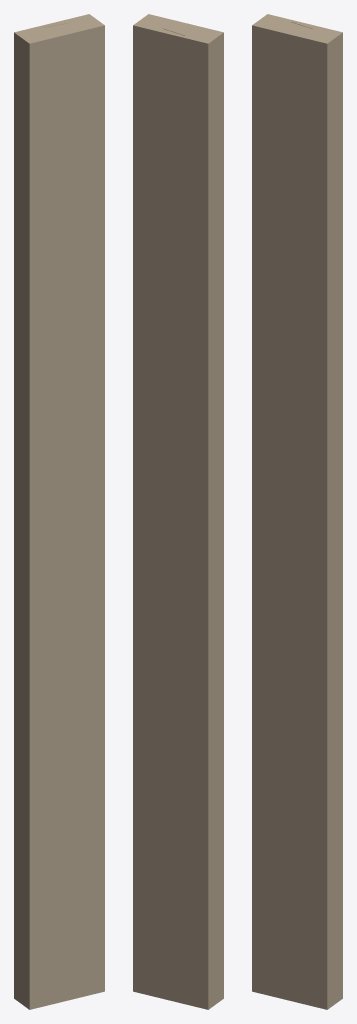
The model's file is T-CAPJIG-MU2.glb.
3 renders of one model, left to right at view 1: azimuth 30°, elevation 25°; view 2: azimuth 150°, elevation 25°; view 3: azimuth 330°, elevation 25°, orthographic.
Visible parts, largest first — view 1: geometry_0; view 2: geometry_0; view 3: geometry_0.
Part boxes in pixels (x1,y1,x2,y2): geometry_0: [14, 14, 104, 1009]; geometry_0: [133, 14, 223, 1009]; geometry_0: [252, 14, 342, 1009].
Size of the model in its own units: 160 by 1960 by 57.2.
